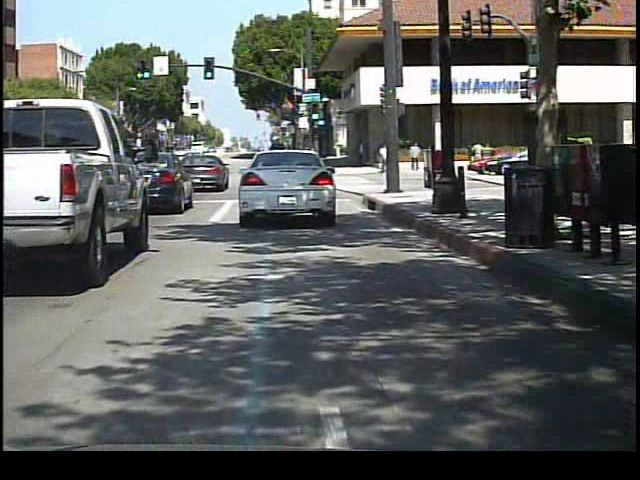person: (468, 138, 488, 172), (408, 141, 425, 173), (378, 140, 392, 175)
